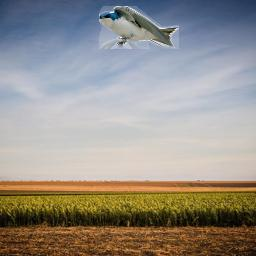Swallow: (99, 6, 179, 49)
